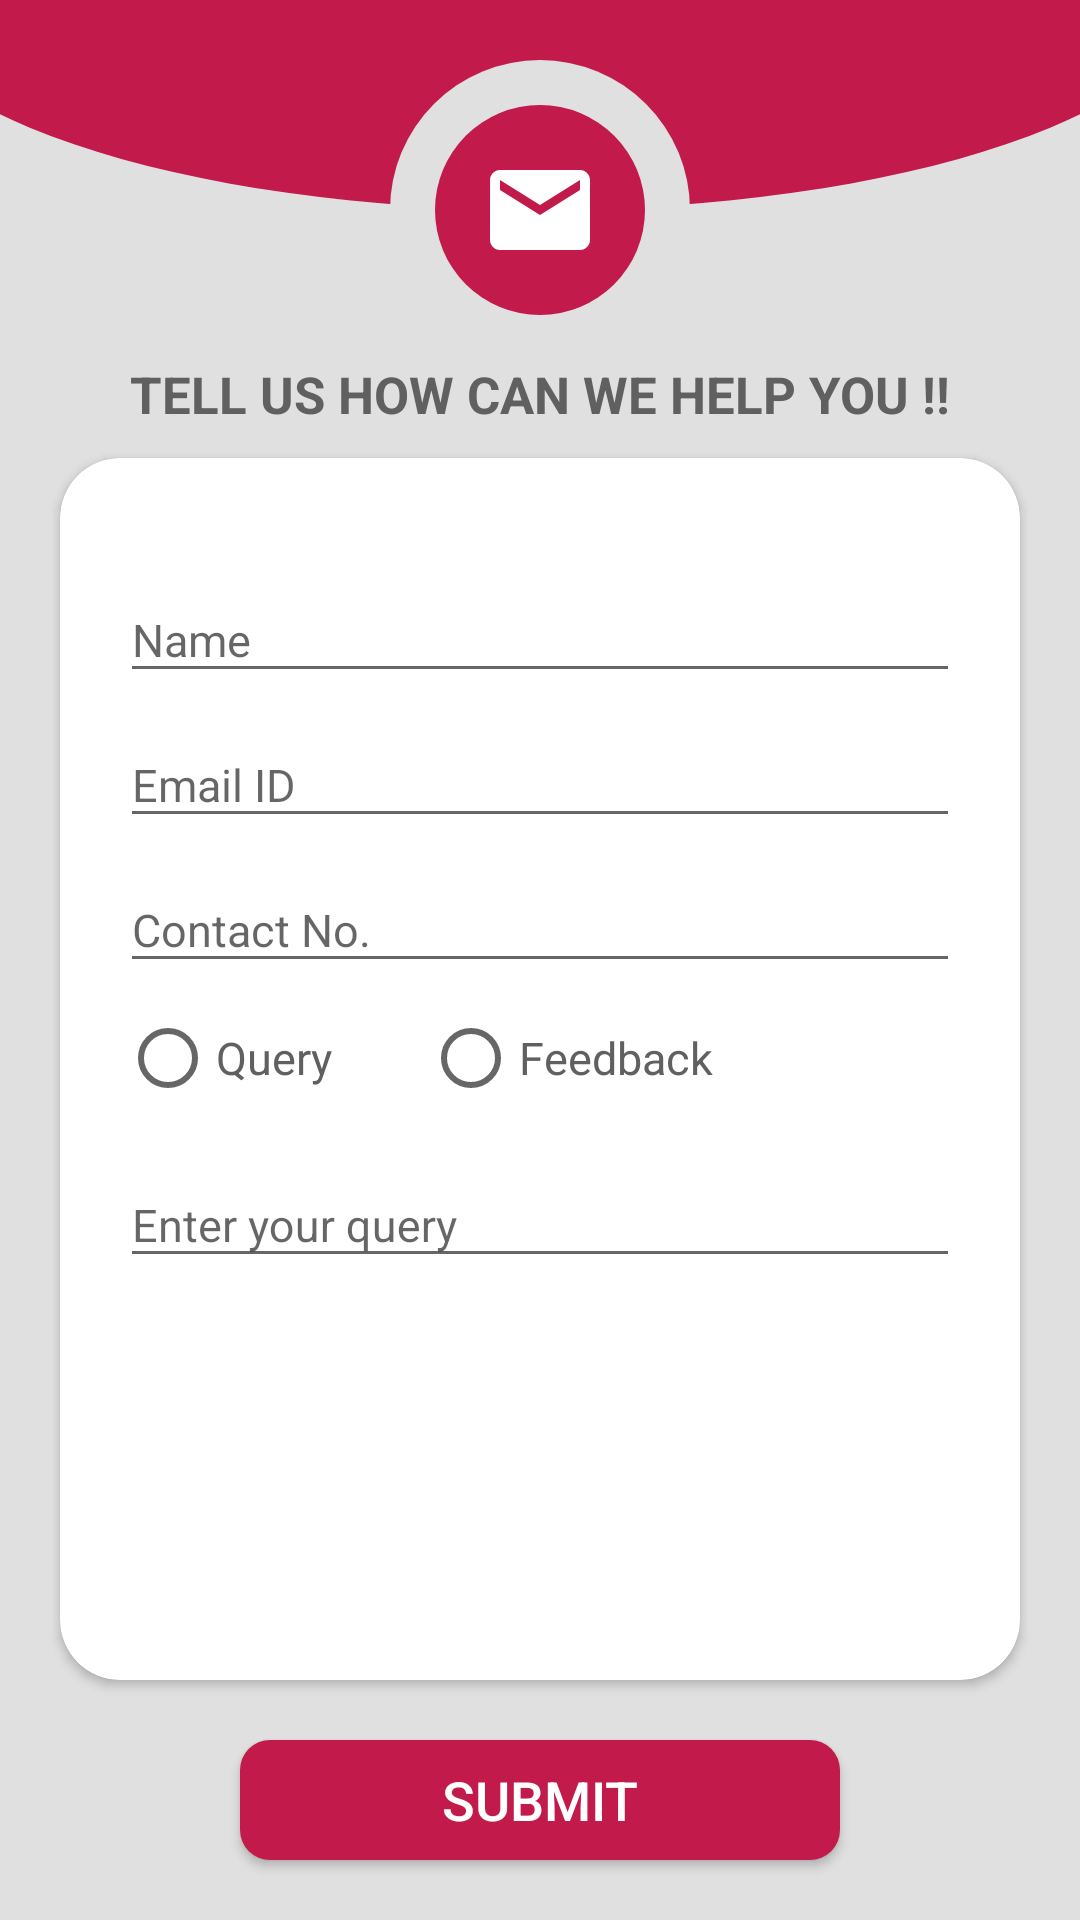

Named icons in this screenshot (1080*1920) and their bounding boxes, (x1, y1, x2, y2):
contact us: (490, 170, 590, 250)
